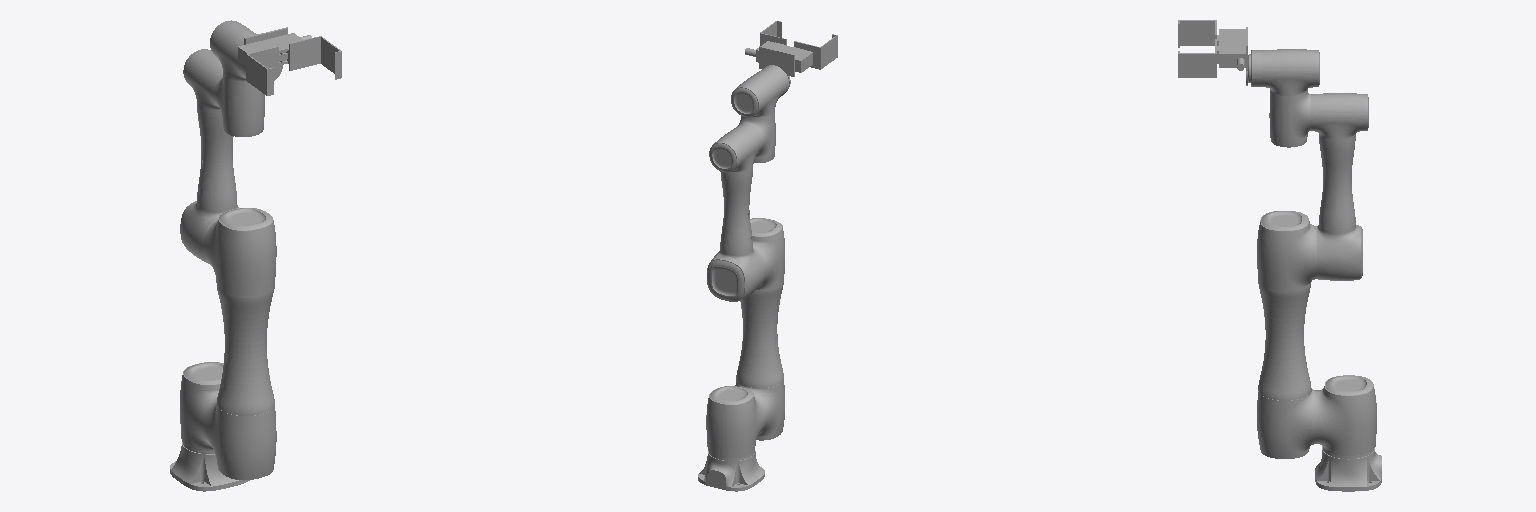
robot.urdf — with_craw:
<?xml version="1.0" ?>
<!-- =================================================================================== -->
<!-- |    This document was autogenerated by xacro from urdf\with_craw.xacro           | -->
<!-- |    EDITING THIS FILE BY HAND IS NOT RECOMMENDED                                 | -->
<!-- =================================================================================== -->
<robot xmlns:xacro="http://www.ros.org/wiki/xacro" name="with_craw">
  <material name="silver">
    <color rgba="0.700 0.700 0.700 1.000"/>
  </material>
  <transmission name="Revolute 21_tran">
    <type>transmission_interface/SimpleTransmission</type>
    <joint name="Revolute 21">
      <hardwareInterface>hardware_interface/EffortJointInterface</hardwareInterface>
    </joint>
    <actuator name="Revolute 21_actr">
      <hardwareInterface>hardware_interface/EffortJointInterface</hardwareInterface>
      <mechanicalReduction>1</mechanicalReduction>
    </actuator>
  </transmission>
  <transmission name="Revolute 22_tran">
    <type>transmission_interface/SimpleTransmission</type>
    <joint name="Revolute 22">
      <hardwareInterface>hardware_interface/EffortJointInterface</hardwareInterface>
    </joint>
    <actuator name="Revolute 22_actr">
      <hardwareInterface>hardware_interface/EffortJointInterface</hardwareInterface>
      <mechanicalReduction>1</mechanicalReduction>
    </actuator>
  </transmission>
  <transmission name="Revolute 34_tran">
    <type>transmission_interface/SimpleTransmission</type>
    <joint name="Revolute 34">
      <hardwareInterface>hardware_interface/EffortJointInterface</hardwareInterface>
    </joint>
    <actuator name="Revolute 34_actr">
      <hardwareInterface>hardware_interface/EffortJointInterface</hardwareInterface>
      <mechanicalReduction>1</mechanicalReduction>
    </actuator>
  </transmission>
  <transmission name="Revolute 40_tran">
    <type>transmission_interface/SimpleTransmission</type>
    <joint name="Revolute 40">
      <hardwareInterface>hardware_interface/EffortJointInterface</hardwareInterface>
    </joint>
    <actuator name="Revolute 40_actr">
      <hardwareInterface>hardware_interface/EffortJointInterface</hardwareInterface>
      <mechanicalReduction>1</mechanicalReduction>
    </actuator>
  </transmission>
  <transmission name="Revolute 41_tran">
    <type>transmission_interface/SimpleTransmission</type>
    <joint name="Revolute 41">
      <hardwareInterface>hardware_interface/EffortJointInterface</hardwareInterface>
    </joint>
    <actuator name="Revolute 41_actr">
      <hardwareInterface>hardware_interface/EffortJointInterface</hardwareInterface>
      <mechanicalReduction>1</mechanicalReduction>
    </actuator>
  </transmission>
  <transmission name="Revolute 42_tran">
    <type>transmission_interface/SimpleTransmission</type>
    <joint name="Revolute 42">
      <hardwareInterface>hardware_interface/EffortJointInterface</hardwareInterface>
    </joint>
    <actuator name="Revolute 42_actr">
      <hardwareInterface>hardware_interface/EffortJointInterface</hardwareInterface>
      <mechanicalReduction>1</mechanicalReduction>
    </actuator>
  </transmission>
  <transmission name="Slider 52_tran">
    <type>transmission_interface/SimpleTransmission</type>
    <joint name="Slider 52">
      <hardwareInterface>hardware_interface/EffortJointInterface</hardwareInterface>
    </joint>
    <actuator name="Slider 52_actr">
      <hardwareInterface>hardware_interface/EffortJointInterface</hardwareInterface>
      <mechanicalReduction>1</mechanicalReduction>
    </actuator>
  </transmission>
  <transmission name="Slider 53_tran">
    <type>transmission_interface/SimpleTransmission</type>
    <joint name="Slider 53">
      <hardwareInterface>hardware_interface/EffortJointInterface</hardwareInterface>
    </joint>
    <actuator name="Slider 53_actr">
      <hardwareInterface>hardware_interface/EffortJointInterface</hardwareInterface>
      <mechanicalReduction>1</mechanicalReduction>
    </actuator>
  </transmission>
  <gazebo>
    <plugin name="control" filename="libgazebo_ros_control.so"/>
  </gazebo>
  <gazebo reference="base_link">
    <material>Gazebo/Silver</material>
    <mu1>0.2</mu1>
    <mu2>0.2</mu2>
    <selfCollide>true</selfCollide>
    <gravity>true</gravity>
  </gazebo>
  <gazebo reference="joint252_1">
    <material>Gazebo/Silver</material>
    <mu1>0.2</mu1>
    <mu2>0.2</mu2>
    <selfCollide>true</selfCollide>
  </gazebo>
  <gazebo reference="25joint_v2_1">
    <material>Gazebo/Silver</material>
    <mu1>0.2</mu1>
    <mu2>0.2</mu2>
    <selfCollide>true</selfCollide>
  </gazebo>
  <gazebo reference="larm_1">
    <material>Gazebo/Silver</material>
    <mu1>0.2</mu1>
    <mu2>0.2</mu2>
    <selfCollide>true</selfCollide>
  </gazebo>
  <gazebo reference="25jointt_1">
    <material>Gazebo/Silver</material>
    <mu1>0.2</mu1>
    <mu2>0.2</mu2>
    <selfCollide>true</selfCollide>
  </gazebo>
  <gazebo reference="transv2_1">
    <material>Gazebo/Silver</material>
    <mu1>0.2</mu1>
    <mu2>0.2</mu2>
    <selfCollide>true</selfCollide>
  </gazebo>
  <gazebo reference="uarm_1">
    <material>Gazebo/Silver</material>
    <mu1>0.2</mu1>
    <mu2>0.2</mu2>
    <selfCollide>true</selfCollide>
  </gazebo>
  <gazebo reference="joint14_1">
    <material>Gazebo/Silver</material>
    <mu1>0.2</mu1>
    <mu2>0.2</mu2>
    <selfCollide>true</selfCollide>
  </gazebo>
  <gazebo reference="14joint44v2_1">
    <material>Gazebo/Silver</material>
    <mu1>0.2</mu1>
    <mu2>0.2</mu2>
    <selfCollide>true</selfCollide>
  </gazebo>
  <gazebo reference="joint143_1">
    <material>Gazebo/Silver</material>
    <mu1>0.2</mu1>
    <mu2>0.2</mu2>
    <selfCollide>true</selfCollide>
  </gazebo>
  <gazebo reference="flange_1">
    <material>Gazebo/Silver</material>
    <mu1>0.2</mu1>
    <mu2>0.2</mu2>
    <selfCollide>true</selfCollide>
  </gazebo>
  <gazebo reference="board_1">
    <material>Gazebo/Silver</material>
    <mu1>0.2</mu1>
    <mu2>0.2</mu2>
    <selfCollide>true</selfCollide>
  </gazebo>
  <gazebo reference="craw_1">
    <material>Gazebo/Silver</material>
    <mu1>0.2</mu1>
    <mu2>0.2</mu2>
    <selfCollide>true</selfCollide>
  </gazebo>
  <gazebo reference="cralwer_deap_1">
    <material>Gazebo/Silver</material>
    <mu1>0.2</mu1>
    <mu2>0.2</mu2>
    <selfCollide>true</selfCollide>
  </gazebo>
  <gazebo reference="cralwer_deap2_1">
    <material>Gazebo/Silver</material>
    <mu1>0.2</mu1>
    <mu2>0.2</mu2>
    <selfCollide>true</selfCollide>
  </gazebo>
  <link name="base_link">
    <inertial>
      <origin xyz="0.001848507400348535 0.00533236671337289 0.032315931711898914" rpy="0 0 0"/>
      <mass value="7.803232490794544"/>
      <inertia ixx="0.012989" iyy="0.01227" izz="0.018229" ixy="0.0" iyz="-1.6e-05" ixz="0.0"/>
    </inertial>
    <visual>
      <origin xyz="0 0 0" rpy="0 0 0"/>
      <geometry>
        <mesh filename="package://robot_description/meshes/base_link.stl" scale="0.001 0.001 0.001"/>
      </geometry>
      <material name="silver"/>
    </visual>
    <collision>
      <origin xyz="0 0 0" rpy="0 0 0"/>
      <geometry>
        <mesh filename="package://robot_description/meshes/base_link.stl" scale="0.001 0.001 0.001"/>
      </geometry>
    </collision>
  </link>
  <link name="joint252_1">
    <inertial>
      <origin xyz="-4.732017259291132e-07 -0.006406461035902656 0.07775349829951284" rpy="0 0 0"/>
      <mass value="15.540708623156794"/>
      <inertia ixx="0.045424" iyy="0.041918" izz="0.033427" ixy="0.0" iyz="-0.000116" ixz="0.0"/>
    </inertial>
    <visual>
      <origin xyz="-0.001849 -0.003782 -0.07" rpy="0 0 0"/>
      <geometry>
        <mesh filename="package://robot_description/meshes/joint252_1.stl" scale="0.001 0.001 0.001"/>
      </geometry>
      <material name="silver"/>
    </visual>
    <collision>
      <origin xyz="-0.001849 -0.003782 -0.07" rpy="0 0 0"/>
      <geometry>
        <mesh filename="package://robot_description/meshes/joint252_1.stl" scale="0.001 0.001 0.001"/>
      </geometry>
    </collision>
  </link>
  <link name="25joint_v2_1">
    <inertial>
      <origin xyz="-4.732017259206564e-07 -0.06359295040332738 -0.0012522954908724127" rpy="0 0 0"/>
      <mass value="15.540708623156803"/>
      <inertia ixx="0.045424" iyy="0.041918" izz="0.033427" ixy="-0.0" iyz="-0.000116" ixz="-0.0"/>
    </inertial>
    <visual>
      <origin xyz="-0.001849 0.066217 -0.146501" rpy="0 0 0"/>
      <geometry>
        <mesh filename="package://robot_description/meshes/25joint_v2_1.stl" scale="0.001 0.001 0.001"/>
      </geometry>
      <material name="silver"/>
    </visual>
    <collision>
      <origin xyz="-0.001849 0.066217 -0.146501" rpy="0 0 0"/>
      <geometry>
        <mesh filename="package://robot_description/meshes/25joint_v2_1.stl" scale="0.001 0.001 0.001"/>
      </geometry>
    </collision>
  </link>
  <link name="larm_1">
    <inertial>
      <origin xyz="-0.001849 0.137217 -0.213002" rpy="0 0 0"/>
      <mass value="0.0"/>
      <inertia ixx="0.0" iyy="0.0" izz="0.0" ixy="0.0" iyz="0.0" ixz="0.0"/>
    </inertial>
    <visual>
      <origin xyz="-0.001849 0.137217 -0.213002" rpy="0 0 0"/>
      <geometry>
        <mesh filename="package://robot_description/meshes/larm_1.stl" scale="0.001 0.001 0.001"/>
      </geometry>
      <material name="silver"/>
    </visual>
    <collision>
      <origin xyz="-0.001849 0.137217 -0.213002" rpy="0 0 0"/>
      <geometry>
        <mesh filename="package://robot_description/meshes/larm_1.stl" scale="0.001 0.001 0.001"/>
      </geometry>
    </collision>
  </link>
  <link name="25jointt_1">
    <inertial>
      <origin xyz="-4.920894866981568e-07 0.007407049596672405 0.06775367435817886" rpy="0 0 0"/>
      <mass value="15.540708623156789"/>
      <inertia ixx="0.045424" iyy="0.041918" izz="0.033427" ixy="0.0" iyz="0.000116" ixz="-0.0"/>
    </inertial>
    <visual>
      <origin xyz="-0.001849 0.137217 -0.481087" rpy="0 0 0"/>
      <geometry>
        <mesh filename="package://robot_description/meshes/25jointt_1.stl" scale="0.001 0.001 0.001"/>
      </geometry>
      <material name="silver"/>
    </visual>
    <collision>
      <origin xyz="-0.001849 0.137217 -0.481087" rpy="0 0 0"/>
      <geometry>
        <mesh filename="package://robot_description/meshes/25jointt_1.stl" scale="0.001 0.001 0.001"/>
      </geometry>
    </collision>
  </link>
  <link name="transv2_1">
    <inertial>
      <origin xyz="-4.841560476990994e-07 0.048347864687305626 0.0023735953077494987" rpy="0 0 0"/>
      <mass value="9.761584230310485"/>
      <inertia ixx="0.01826" iyy="0.019423" izz="0.017278" ixy="0.0" iyz="8.1e-05" ixz="0.0"/>
    </inertial>
    <visual>
      <origin xyz="-0.001849 0.066217 -0.547588" rpy="0 0 0"/>
      <geometry>
        <mesh filename="package://robot_description/meshes/transv2_1.stl" scale="0.001 0.001 0.001"/>
      </geometry>
      <material name="silver"/>
    </visual>
    <collision>
      <origin xyz="-0.001849 0.066217 -0.547588" rpy="0 0 0"/>
      <geometry>
        <mesh filename="package://robot_description/meshes/transv2_1.stl" scale="0.001 0.001 0.001"/>
      </geometry>
    </collision>
  </link>
  <link name="uarm_1">
    <inertial>
      <origin xyz="-0.001849 0.021217 -0.612688" rpy="0 0 0"/>
      <mass value="0.0"/>
      <inertia ixx="0.0" iyy="0.0" izz="0.0" ixy="0.0" iyz="0.0" ixz="0.0"/>
    </inertial>
    <visual>
      <origin xyz="-0.001849 0.021217 -0.612688" rpy="0 0 0"/>
      <geometry>
        <mesh filename="package://robot_description/meshes/uarm_1.stl" scale="0.001 0.001 0.001"/>
      </geometry>
      <material name="silver"/>
    </visual>
    <collision>
      <origin xyz="-0.001849 0.021217 -0.612688" rpy="0 0 0"/>
      <geometry>
        <mesh filename="package://robot_description/meshes/uarm_1.stl" scale="0.001 0.001 0.001"/>
      </geometry>
    </collision>
  </link>
  <link name="joint14_1">
    <inertial>
      <origin xyz="-4.756562241251677e-07 0.0013161557636816243 0.044490051559664234" rpy="0 0 0"/>
      <mass value="6.462489586316139"/>
      <inertia ixx="0.012155" iyy="0.006667" izz="0.011497" ixy="0.0" iyz="-4.7e-05" ixz="0.0"/>
    </inertial>
    <visual>
      <origin xyz="-0.001849 0.021217 -0.839688" rpy="0 0 0"/>
      <geometry>
        <mesh filename="package://robot_description/meshes/joint14_1.stl" scale="0.001 0.001 0.001"/>
      </geometry>
      <material name="silver"/>
    </visual>
    <collision>
      <origin xyz="-0.001849 0.021217 -0.839688" rpy="0 0 0"/>
      <geometry>
        <mesh filename="package://robot_description/meshes/joint14_1.stl" scale="0.001 0.001 0.001"/>
      </geometry>
    </collision>
  </link>
  <link name="14joint44v2_1">
    <inertial>
      <origin xyz="-4.89634955042539e-07 -0.04448997981623426 -0.0013160840202266488" rpy="0 0 0"/>
      <mass value="6.462489586316137"/>
      <inertia ixx="0.012155" iyy="0.011497" izz="0.006667" ixy="0.0" iyz="-4.7e-05" ixz="0.0"/>
    </inertial>
    <visual>
      <origin xyz="-0.001849 0.079217 -0.888688" rpy="0 0 0"/>
      <geometry>
        <mesh filename="package://robot_description/meshes/14joint44v2_1.stl" scale="0.001 0.001 0.001"/>
      </geometry>
      <material name="silver"/>
    </visual>
    <collision>
      <origin xyz="-0.001849 0.079217 -0.888688" rpy="0 0 0"/>
      <geometry>
        <mesh filename="package://robot_description/meshes/14joint44v2_1.stl" scale="0.001 0.001 0.001"/>
      </geometry>
    </collision>
  </link>
  <link name="joint143_1">
    <inertial>
      <origin xyz="-4.7565622413882867e-07 0.0013161557637089705 0.04449005155969088" rpy="0 0 0"/>
      <mass value="6.462489586316132"/>
      <inertia ixx="0.012155" iyy="0.006667" izz="0.011497" ixy="0.0" iyz="-4.7e-05" ixz="0.0"/>
    </inertial>
    <visual>
      <origin xyz="-0.001849 0.128217 -0.946688" rpy="0 0 0"/>
      <geometry>
        <mesh filename="package://robot_description/meshes/joint143_1.stl" scale="0.001 0.001 0.001"/>
      </geometry>
      <material name="silver"/>
    </visual>
    <collision>
      <origin xyz="-0.001849 0.128217 -0.946688" rpy="0 0 0"/>
      <geometry>
        <mesh filename="package://robot_description/meshes/joint143_1.stl" scale="0.001 0.001 0.001"/>
      </geometry>
    </collision>
  </link>
  <link name="flange_1">
    <inertial>
      <origin xyz="-4.826455904198817e-07 -0.01210702329269897 -2.6382789386936167e-05" rpy="0 0 0"/>
      <mass value="1.2487889322710095"/>
      <inertia ixx="0.000662" iyy="0.001091" izz="0.000662" ixy="-0.0" iyz="-1e-06" ixz="0.0"/>
    </inertial>
    <visual>
      <origin xyz="-0.001849 0.186217 -0.995688" rpy="0 0 0"/>
      <geometry>
        <mesh filename="package://robot_description/meshes/flange_1.stl" scale="0.001 0.001 0.001"/>
      </geometry>
      <material name="silver"/>
    </visual>
    <collision>
      <origin xyz="-0.001849 0.186217 -0.995688" rpy="0 0 0"/>
      <geometry>
        <mesh filename="package://robot_description/meshes/flange_1.stl" scale="0.001 0.001 0.001"/>
      </geometry>
    </collision>
  </link>
  <link name="board_1">
    <inertial>
      <origin xyz="-4.826455891051781e-07 -0.002505172502402314 0.02755397289155359" rpy="0 0 0"/>
      <mass value="0.3723965227028356"/>
      <inertia ixx="0.000357" iyy="0.000605" izz="0.00025" ixy="0.0" iyz="0.0" ixz="-0.0"/>
    </inertial>
    <visual>
      <origin xyz="-0.001849 0.217717 -0.995688" rpy="0 0 0"/>
      <geometry>
        <mesh filename="package://robot_description/meshes/board_1.stl" scale="0.001 0.001 0.001"/>
      </geometry>
      <material name="silver"/>
    </visual>
    <collision>
      <origin xyz="-0.001849 0.217717 -0.995688" rpy="0 0 0"/>
      <geometry>
        <mesh filename="package://robot_description/meshes/board_1.stl" scale="0.001 0.001 0.001"/>
      </geometry>
    </collision>
  </link>
  <link name="craw_1">
    <inertial>
      <origin xyz="0.034087163819984216 -0.028003110619122862 -0.011999722536958357" rpy="0 0 0"/>
      <mass value="2.052982330856382"/>
      <inertia ixx="0.000782" iyy="0.003426" izz="0.003843" ixy="-8.9e-05" iyz="0.0" ixz="0.0"/>
    </inertial>
    <visual>
      <origin xyz="0.032651 0.223717 -1.055188" rpy="0 0 0"/>
      <geometry>
        <mesh filename="package://robot_description/meshes/craw_1.stl" scale="0.001 0.001 0.001"/>
      </geometry>
      <material name="silver"/>
    </visual>
    <collision>
      <origin xyz="0.032651 0.223717 -1.055188" rpy="0 0 0"/>
      <geometry>
        <mesh filename="package://robot_description/meshes/craw_1.stl" scale="0.001 0.001 0.001"/>
      </geometry>
    </collision>
  </link>
  <link name="cralwer_deap_1">
    <inertial>
      <origin xyz="-0.03526468017645347 -0.033147119299760386 -0.008749722536942839" rpy="0 0 0"/>
      <mass value="0.28613249999999474"/>
      <inertia ixx="0.000341" iyy="0.00027" izz="0.00046" ixy="-0.000146" iyz="0.0" ixz="0.0"/>
    </inertial>
    <visual>
      <origin xyz="0.023651 0.277717 -1.051938" rpy="0 0 0"/>
      <geometry>
        <mesh filename="package://robot_description/meshes/cralwer_deap_1.stl" scale="0.001 0.001 0.001"/>
      </geometry>
      <material name="silver"/>
    </visual>
    <collision>
      <origin xyz="0.023651 0.277717 -1.051938" rpy="0 0 0"/>
      <geometry>
        <mesh filename="package://robot_description/meshes/cralwer_deap_1.stl" scale="0.001 0.001 0.001"/>
      </geometry>
    </collision>
  </link>
  <link name="cralwer_deap2_1">
    <inertial>
      <origin xyz="0.03526371488527427 -0.03314711929976033 -0.008749722536943949" rpy="0 0 0"/>
      <mass value="0.2861324999999951"/>
      <inertia ixx="0.000341" iyy="0.00027" izz="0.00046" ixy="0.000146" iyz="0.0" ixz="-0.0"/>
    </inertial>
    <visual>
      <origin xyz="-0.030349 0.277717 -1.051938" rpy="0 0 0"/>
      <geometry>
        <mesh filename="package://robot_description/meshes/cralwer_deap2_1.stl" scale="0.001 0.001 0.001"/>
      </geometry>
      <material name="silver"/>
    </visual>
    <collision>
      <origin xyz="-0.030349 0.277717 -1.051938" rpy="0 0 0"/>
      <geometry>
        <mesh filename="package://robot_description/meshes/cralwer_deap2_1.stl" scale="0.001 0.001 0.001"/>
      </geometry>
    </collision>
  </link>
  
  <link name="virtual_tip_link">
    <inertial>
      <mass value="0.00001"/>
      <origin xyz="0 -0.08 0"/>
      <inertia ixx="1e-6" iyy="1e-6" izz="1e-6" ixy="0" ixz="0" iyz="0"/>
    </inertial>
  </link>
  <joint name="Revolute 21" type="continuous">
    <origin xyz="0.001849 0.003782 0.07" rpy="0 0 0"/>
    <parent link="base_link"/>
    <child link="joint252_1"/>
    <axis xyz="0.0 0.0 1.0"/>
  </joint>
  <joint name="Revolute_22" type="revolute">
    <origin xyz="0.0 -0.069999 0.076501" rpy="0 0 0"/>
    <parent link="joint252_1"/>
    <child link="25joint_v2_1"/>
    <axis xyz="0.0 -1.0 0.0"/>
    <limit lower="-1.47" upper="1.47" effort="10" velocity="1.0"/>
    <!--limit lower="-0.175" upper="0.175" effort="10" velocity="1.0"/-->
  </joint>

  <joint name="Rigid 30" type="fixed">
    <origin xyz="0.0 -0.071 0.066501" rpy="0 0 0"/>
    <parent link="25joint_v2_1"/>
    <child link="larm_1"/>
  </joint>
  <joint name="Rigid 32" type="fixed">
    <origin xyz="0.0 0.0 0.268085" rpy="0 0 0"/>
    <parent link="larm_1"/>
    <child link="25jointt_1"/>
  </joint>
  <joint name="Revolute 34" type="continuous">
    <origin xyz="0.0 0.071 0.066501" rpy="0 0 0"/>
    <parent link="25jointt_1"/>
    <child link="transv2_1"/>
    <axis xyz="0.0 -1.0 0.0"/>
  </joint>
  <joint name="Rigid 35" type="fixed">
    <origin xyz="0.0 0.045 0.0651" rpy="0 0 0"/>
    <parent link="transv2_1"/>
    <child link="uarm_1"/>
  </joint>
  <joint name="Rigid 37" type="fixed">
    <origin xyz="0.0 0.0 0.227" rpy="0 0 0"/>
    <parent link="uarm_1"/>
    <child link="joint14_1"/>
  </joint>
  <joint name="Revolute 40" type="continuous">
    <origin xyz="0.0 -0.058 0.049" rpy="0 0 0"/>
    <parent link="joint14_1"/>
    <child link="14joint44v2_1"/>
    <axis xyz="0.0 -1.0 -0.0"/>
  </joint>
  <joint name="Revolute 41" type="continuous">
    <origin xyz="0.0 -0.049 0.058" rpy="0 0 0"/>
    <parent link="14joint44v2_1"/>
    <child link="joint143_1"/>
    <axis xyz="0.0 -0.0 1.0"/>
  </joint>
  <joint name="Revolute 42" type="continuous">
    <origin xyz="0.0 -0.058 0.049" rpy="0 0 0"/>
    <parent link="joint143_1"/>
    <child link="flange_1"/>
    <axis xyz="0.0 -1.0 -0.0"/>
  </joint>
  <joint name="Rigid 43" type="fixed">
    <origin xyz="0.0 -0.0315 0.0" rpy="0 0 0"/>
    <parent link="flange_1"/>
    <child link="board_1"/>
  </joint>
  <joint name="Rigid 44" type="fixed">
    <origin xyz="-0.0345 -0.006 0.0595" rpy="0 0 0"/>
    <parent link="board_1"/>
    <child link="craw_1"/>
  </joint>
  <joint name="Slider 52" type="prismatic">
    <origin xyz="0.009 -0.054 -0.00325" rpy="0 0 0"/>
    <parent link="craw_1"/>
    <child link="cralwer_deap_1"/>
    <axis xyz="1.0 -0.0 -0.0"/>
    <limit upper="0.01" lower="-0.01" effort="100" velocity="100"/>
  </joint>
  <joint name="Slider 53" type="prismatic">
    <origin xyz="0.063 -0.054 -0.00325" rpy="0 0 0"/>
    <parent link="craw_1"/>
    <child link="cralwer_deap2_1"/>
    <axis xyz="1.0 -0.0 -0.0"/>
    <limit upper="0.01" lower="-0.01" effort="100" velocity="100"/>
  </joint>
    <joint name="virtual_tip_joint" type="revolute">
    <parent link="craw_1"/> <!-- 改成共用父連結 -->
    <child link="virtual_tip_link"/>
    <origin xyz=" 0.036 -0.054 -0.00325" rpy="0 0 0"/> <!-- 位置依你要掛在中間點的 offset 調整 -->
    <axis xyz="0 0 1"/>
    <limit lower="0" upper="0" effort="0" velocity="0"/>
  </joint>
</robot>

--- Render facts (derived) ---
Views: 3 orthographic renders of the robot side by side, from view 1: azimuth 30°, elevation 25°; view 2: azimuth 150°, elevation 25°; view 3: azimuth 270°, elevation 25°.
Model with_craw with 16 links and 15 joints (2 revolute, 5 continuous, 2 prismatic, 6 fixed), rooted at base_link, posed all joints at 0.
Visible links, largest first — view 1: larm_1, 25jointt_1, 25joint_v2_1, uarm_1, joint252_1, 14joint44v2_1, base_link, joint14_1, joint143_1, cralwer_deap2_1, transv2_1, cralwer_deap_1 (+1 smaller); view 2: larm_1, joint252_1, uarm_1, transv2_1, joint14_1, base_link, joint143_1, 25jointt_1, 25joint_v2_1, 14joint44v2_1, board_1, cralwer_deap_1 (+1 smaller); view 3: larm_1, joint252_1, 25jointt_1, 25joint_v2_1, uarm_1, joint14_1, joint143_1, base_link, transv2_1, 14joint44v2_1, craw_1, cralwer_deap2_1 (+1 smaller).
Boxes of the visible links, x1=… form: larm_1: x1=217, y1=286, x2=274, y2=415; 25jointt_1: x1=203, y1=208, x2=276, y2=295; 25joint_v2_1: x1=203, y1=400, x2=276, y2=479; uarm_1: x1=197, y1=104, x2=236, y2=211; joint252_1: x1=180, y1=362, x2=223, y2=450; 14joint44v2_1: x1=214, y1=74, x2=264, y2=136; base_link: x1=170, y1=442, x2=249, y2=491; joint14_1: x1=183, y1=49, x2=222, y2=109; joint143_1: x1=210, y1=20, x2=256, y2=81; cralwer_deap2_1: x1=286, y1=36, x2=341, y2=79; transv2_1: x1=180, y1=201, x2=238, y2=264; cralwer_deap_1: x1=246, y1=46, x2=278, y2=95; larm_1: x1=736, y1=282, x2=783, y2=387; joint252_1: x1=706, y1=386, x2=766, y2=457; uarm_1: x1=720, y1=168, x2=752, y2=255; transv2_1: x1=707, y1=248, x2=766, y2=301; joint14_1: x1=709, y1=124, x2=762, y2=172; base_link: x1=698, y1=451, x2=764, y2=491; joint143_1: x1=731, y1=69, x2=784, y2=117; 25jointt_1: x1=750, y1=218, x2=784, y2=289; 25joint_v2_1: x1=735, y1=379, x2=784, y2=440; 14joint44v2_1: x1=738, y1=112, x2=775, y2=162; board_1: x1=759, y1=46, x2=794, y2=86; cralwer_deap_1: x1=794, y1=34, x2=837, y2=69; larm_1: x1=1258, y1=281, x2=1311, y2=400; joint252_1: x1=1317, y1=375, x2=1376, y2=455; 25jointt_1: x1=1257, y1=211, x2=1316, y2=290; 25joint_v2_1: x1=1257, y1=389, x2=1316, y2=458; uarm_1: x1=1319, y1=134, x2=1355, y2=233; joint14_1: x1=1311, y1=93, x2=1368, y2=140; joint143_1: x1=1262, y1=49, x2=1319, y2=95; base_link: x1=1315, y1=446, x2=1381, y2=491; transv2_1: x1=1317, y1=225, x2=1362, y2=280; 14joint44v2_1: x1=1269, y1=89, x2=1310, y2=147; craw_1: x1=1219, y1=29, x2=1245, y2=70; cralwer_deap2_1: x1=1178, y1=39, x2=1218, y2=77.
Bounding box of the posed robot: 0.181 × 0.4496 × 1.07 m (x, y, z).
Meshes: 15 distinct files referenced, 15 mesh visuals loaded (15 binary STL).
